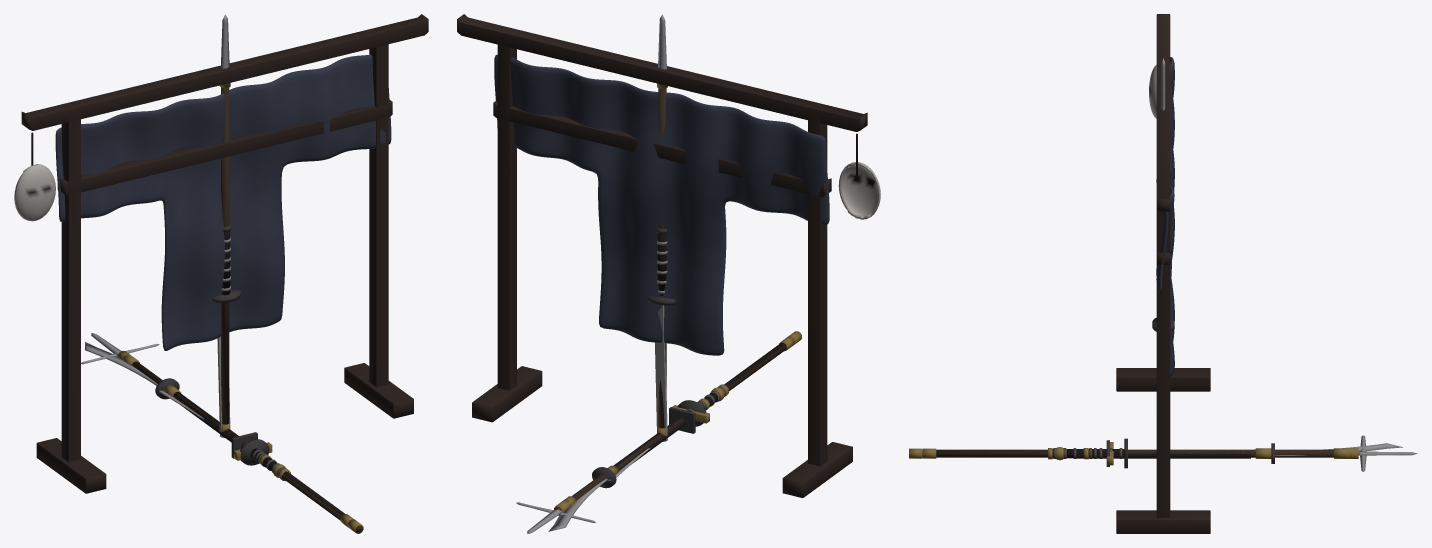
The model's file is b3_exhibit.glb.
The picture shows the model from 3 angles, left to right: view 1: azimuth 30°, elevation 25°; view 2: azimuth 150°, elevation 25°; view 3: azimuth 270°, elevation 25°; orthographic projection. The views are drawn at different scales.
Visible parts, largest first — view 1: rack, yari_up, naginata, sword, jumonji, katana, yari; view 2: rack, sword, naginata, jumonji, yari_up, yari, katana, wakizashi; view 3: rack, jumonji, naginata, yari, saya.
Boxes of the visible parts, left/top/right/bottom form: rack: left=14, top=14, right=428, bottom=493; yari_up: left=219, top=14, right=230, bottom=437; naginata: left=85, top=342, right=353, bottom=523; sword: left=212, top=224, right=240, bottom=437; jumonji: left=81, top=344, right=354, bottom=527; katana: left=159, top=390, right=290, bottom=481; yari: left=91, top=333, right=363, bottom=533; rack: left=457, top=14, right=880, bottom=497; sword: left=648, top=228, right=675, bottom=441; naginata: left=548, top=337, right=794, bottom=531; jumonji: left=516, top=336, right=794, bottom=522; yari_up: left=657, top=14, right=667, bottom=441; yari: left=527, top=331, right=801, bottom=533; katana: left=607, top=384, right=728, bottom=481; wakizashi: left=630, top=398, right=709, bottom=464; rack: left=1116, top=14, right=1210, bottom=533; jumonji: left=923, top=435, right=1366, bottom=471; naginata: left=923, top=443, right=1402, bottom=463; yari: left=909, top=448, right=1417, bottom=458; saya: left=1076, top=454, right=1250, bottom=458.
Size of the model in its own units: 2.01 by 2 by 2.26.
